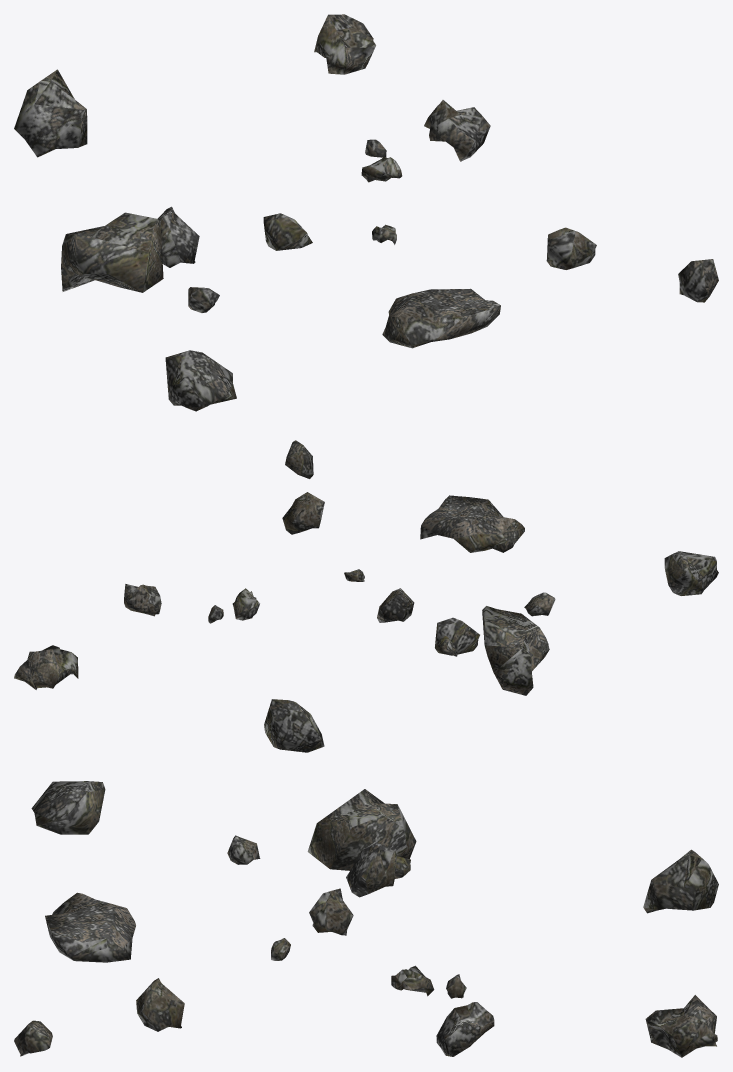
The model's file is wasteland_gravel_01_001.gltf.
3 views of the same model, one above another, from view 1: azimuth 30°, elevation 25°; view 2: azimuth 150°, elevation 25°; view 3: azimuth 270°, elevation 25° (orthographic). The views are drawn at different scales.
Visible parts, largest first — view 1: Wasteland gravel 01.001; view 2: Wasteland gravel 01.001; view 3: Wasteland gravel 01.001.
Boxes of the visible parts, x1,y1,x2,y2 form: Wasteland gravel 01.001: (14, 14, 718, 411); Wasteland gravel 01.001: (14, 440, 718, 752); Wasteland gravel 01.001: (14, 781, 718, 1057).
Size of the model in its own units: 0.305 by 0.0407 by 0.3592.
1 material, 1 textured.
